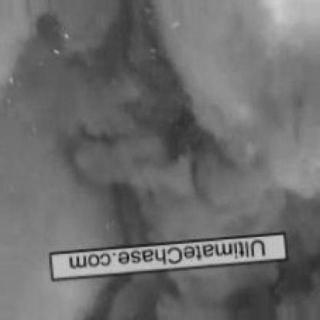Smoke: (10, 11, 296, 231)
